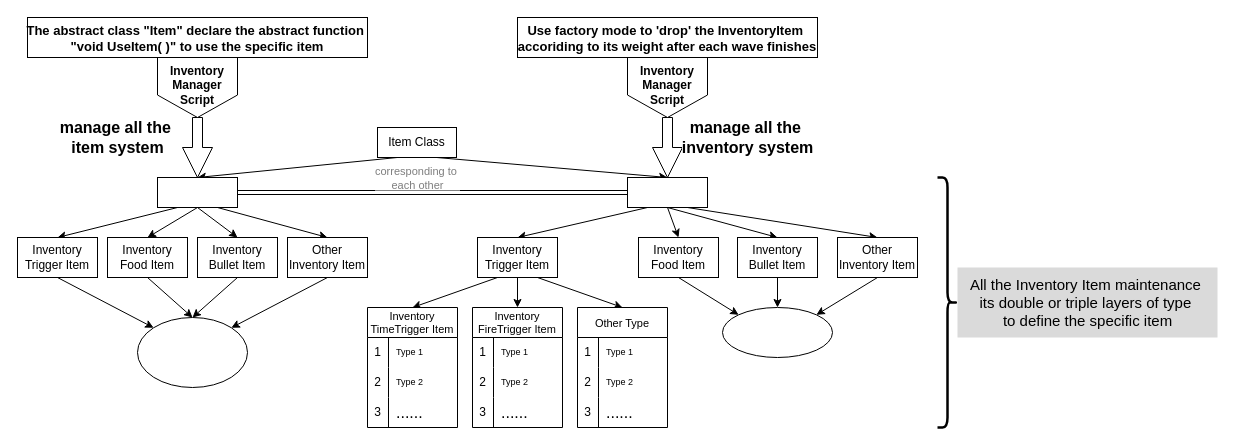
The diagram is 1235 pixels wide and 446 high, and some of its shapes have lost their labels. The centre of each missing label's shape, as x and y in pixels:
"each has serveral types" belongs at point (777, 332).
"Inventory System" belongs at point (667, 192).
"Item System" belongs at point (197, 192).
"which actually loaded to the player as scripts" belongs at point (192, 352).
